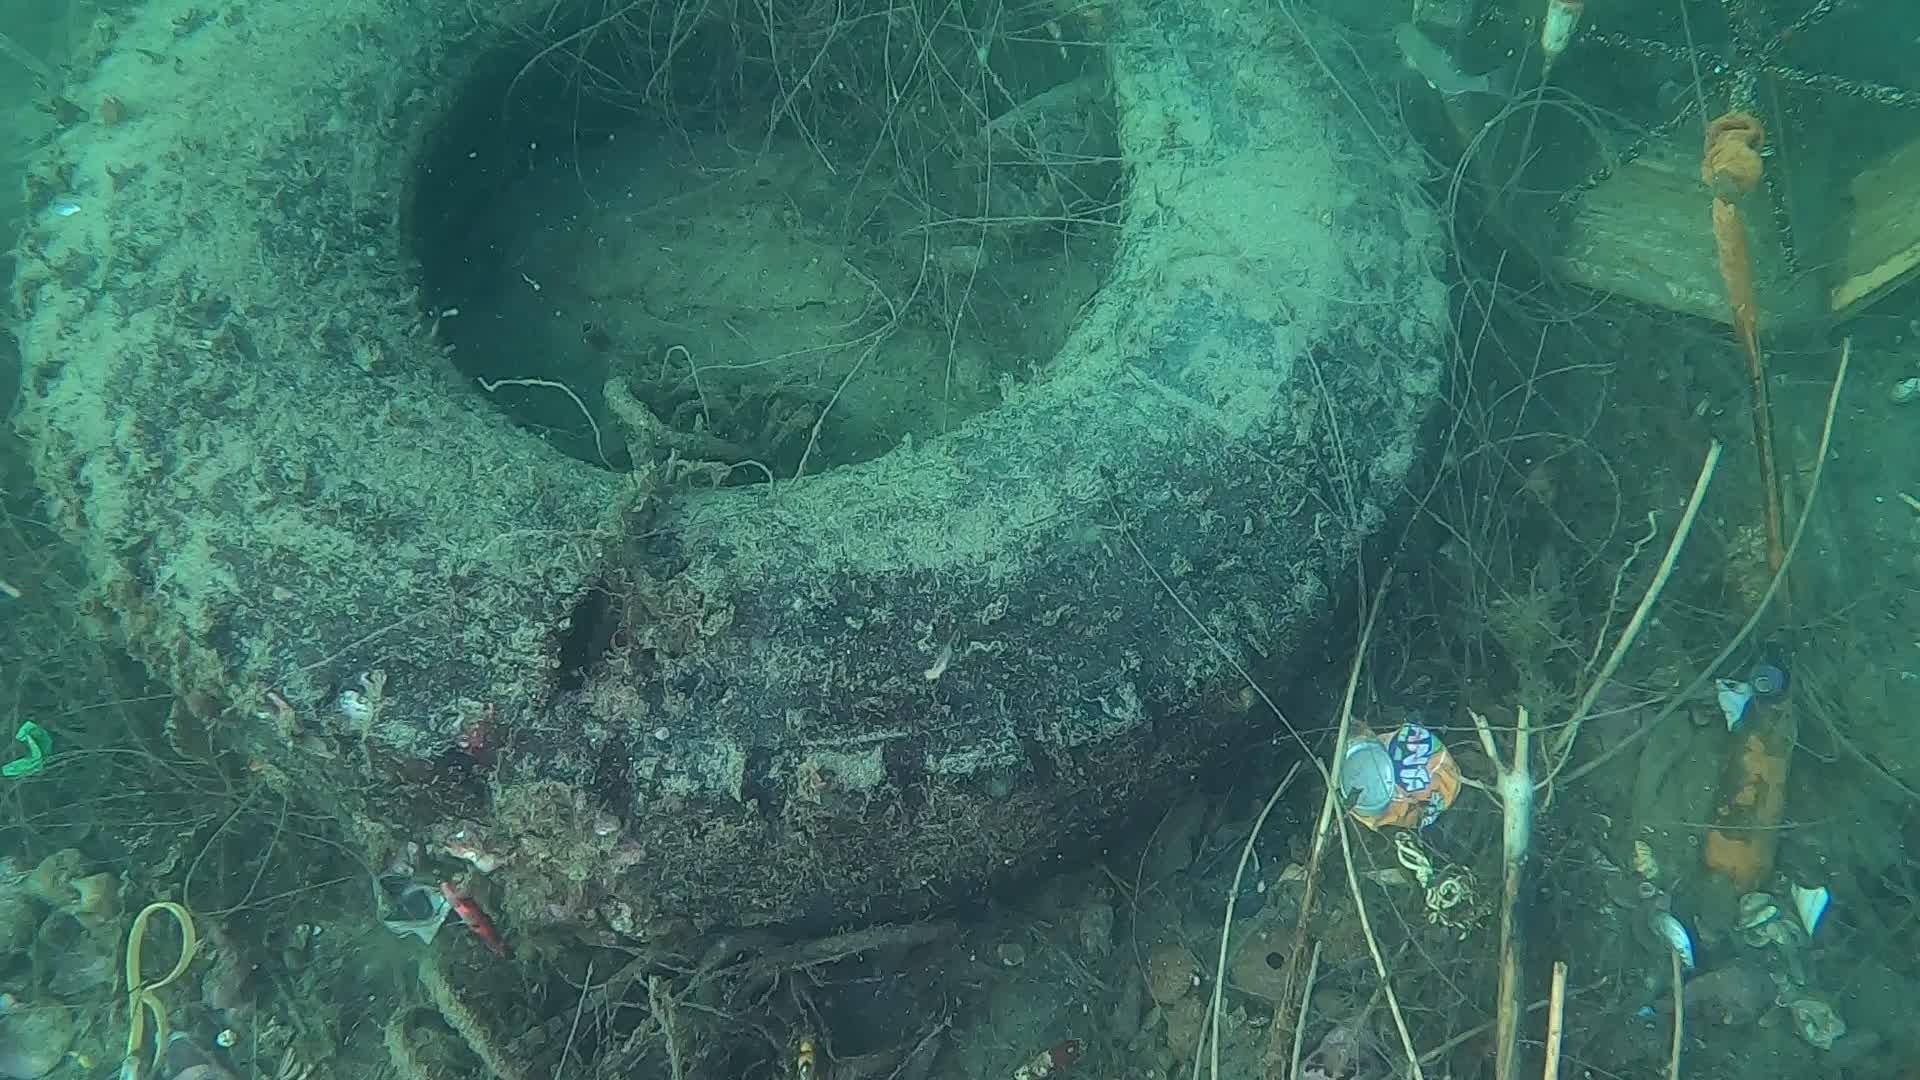tire: (4, 0, 1458, 919)
